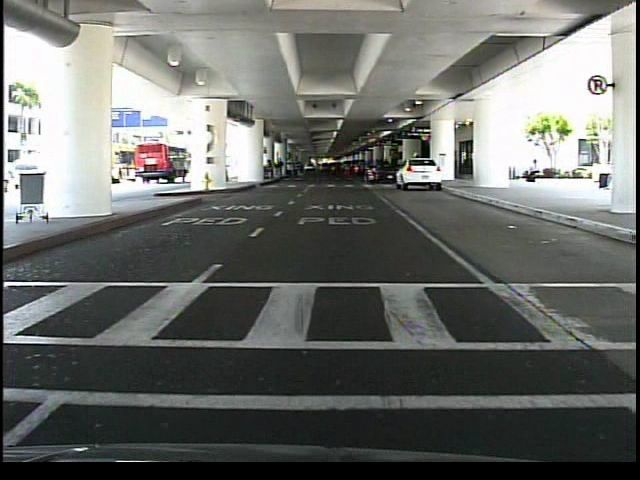person: (518, 155, 545, 190)
